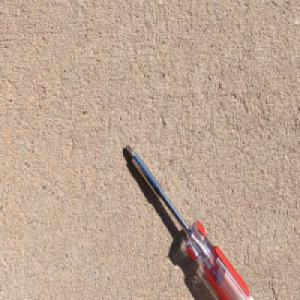Screwdriver: (124, 141, 256, 300)
